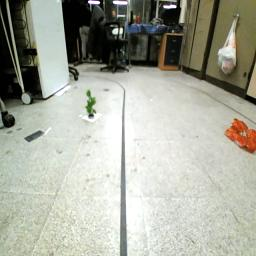herb: (87, 89, 99, 117)
wild: (225, 117, 256, 156)
